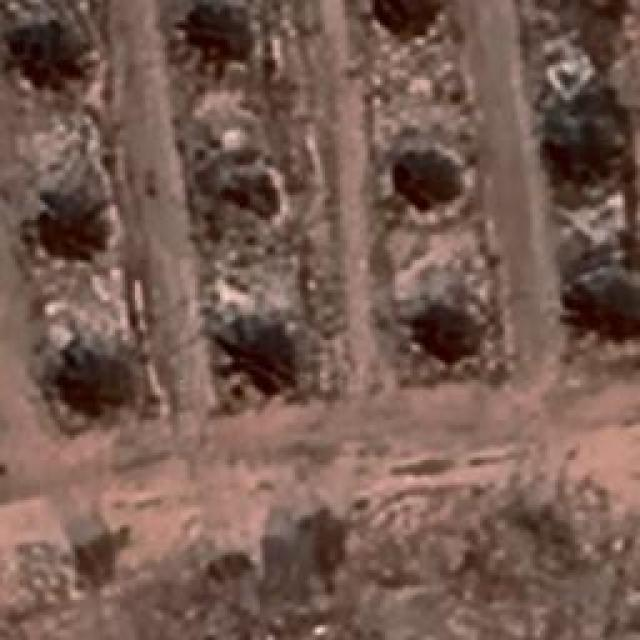PalmTree: (382, 140, 476, 222), (541, 101, 619, 191), (218, 314, 304, 392), (52, 338, 136, 410), (405, 295, 493, 363), (182, 5, 266, 73), (570, 260, 640, 340), (10, 18, 80, 82), (210, 165, 282, 225), (42, 194, 102, 262), (372, 0, 449, 52)
